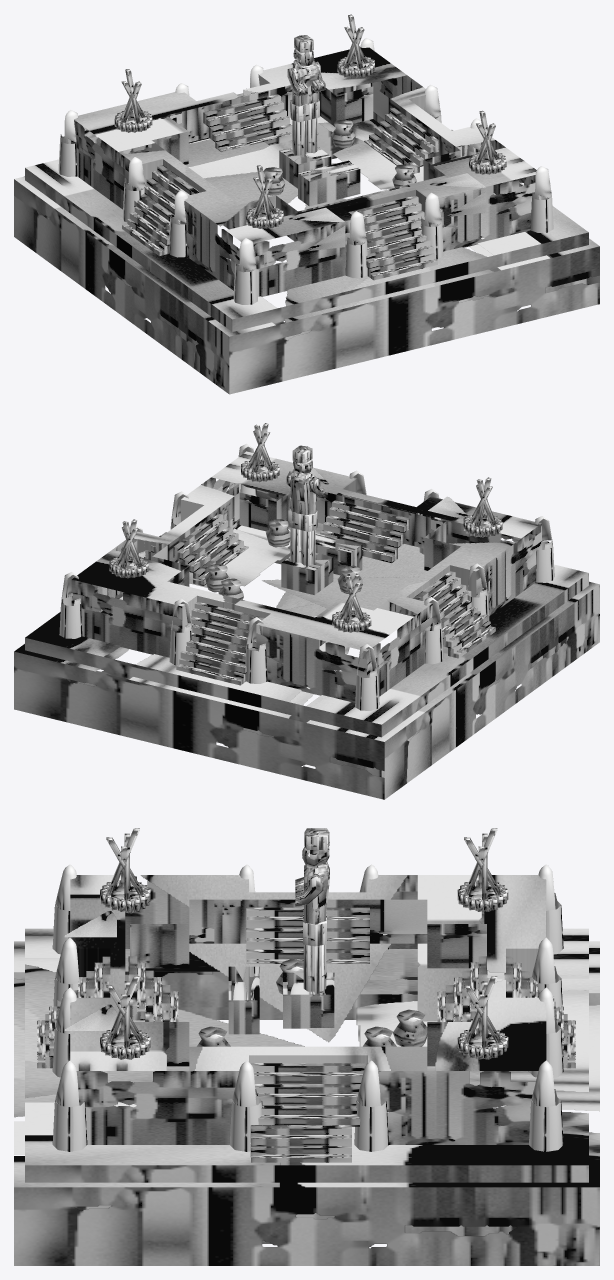
File: temple.dae
3 views of the same model, one above another, from view 1: azimuth 30°, elevation 25°; view 2: azimuth 150°, elevation 25°; view 3: azimuth 270°, elevation 25° (orthographic). The views are drawn at different scales.
Visible parts, largest first — view 1: temple; view 2: temple; view 3: temple.
Part boxes in pixels (left/top/right/bottom): temple: left=14, top=14, right=599, bottom=394; temple: left=14, top=423, right=599, bottom=799; temple: left=14, top=828, right=599, bottom=1265.
Bounding box in the file's own units: 21.45 × 21.6 × 12.64.
